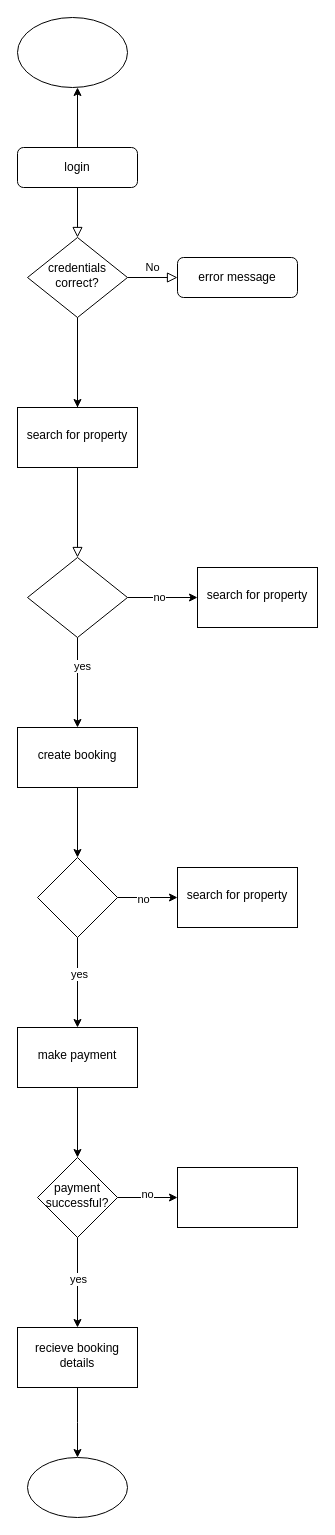
Some shapes in this 335 by 1535 pixel diagram are drawn without their labels. The box of each missing label's shape, as (x1, y1, x2, y2) in pixels:
back to booking: (176, 1166, 298, 1228)
end: (26, 1456, 128, 1518)
property available?: (36, 856, 118, 938)
property found?: (26, 556, 128, 638)
start: (16, 16, 128, 88)
